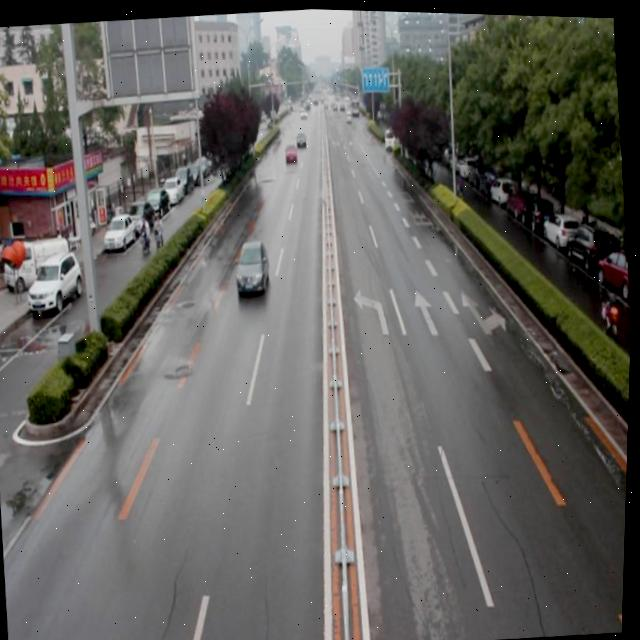car: (233, 237, 274, 296), (282, 139, 298, 162), (295, 128, 307, 146)
